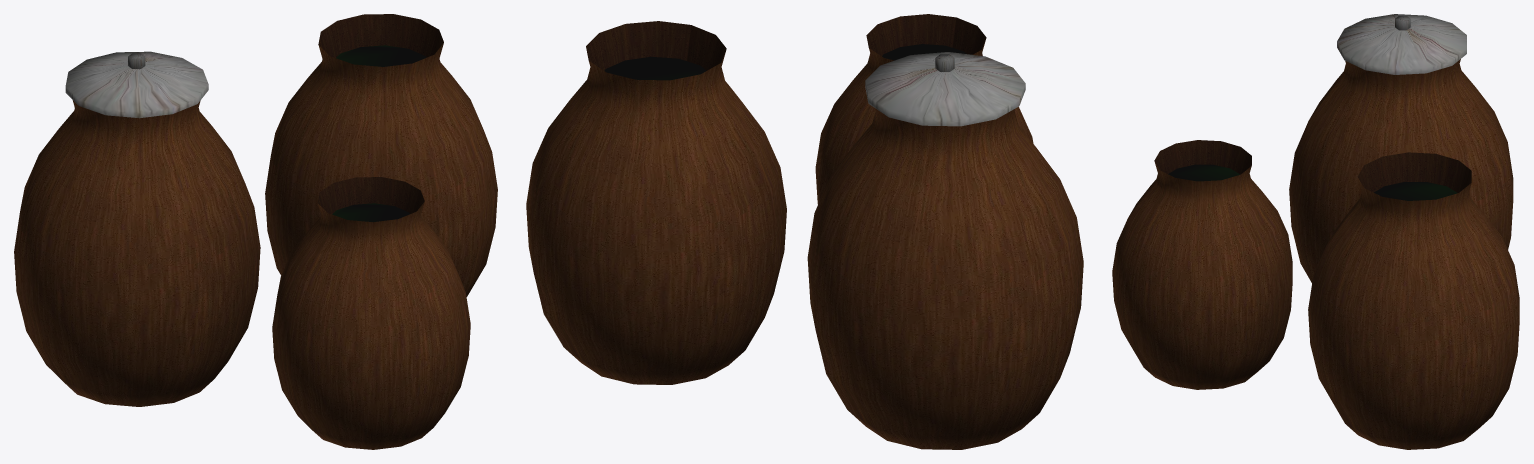
File: jars.glb
3 renders of one model, left to right at view 1: azimuth 30°, elevation 25°; view 2: azimuth 150°, elevation 25°; view 3: azimuth 270°, elevation 25°, orthographic. The views are drawn at different scales.
Parts seen in each view (by area): view 1: jars_mesh; view 2: jars_mesh; view 3: jars_mesh.
Part boxes in pixels (box(x1,y1,x2,y2)): jars_mesh: box(14, 14, 497, 449); jars_mesh: box(526, 14, 1083, 449); jars_mesh: box(1112, 14, 1519, 449).
Size of the model in its own units: 1.53 by 1.02 by 1.29.
Materials: 3 (2 with a texture image).
